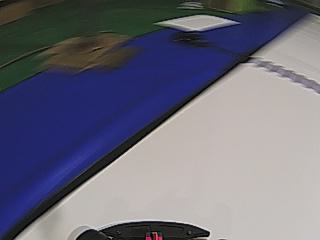CrossWalk: (238, 56, 316, 92)
